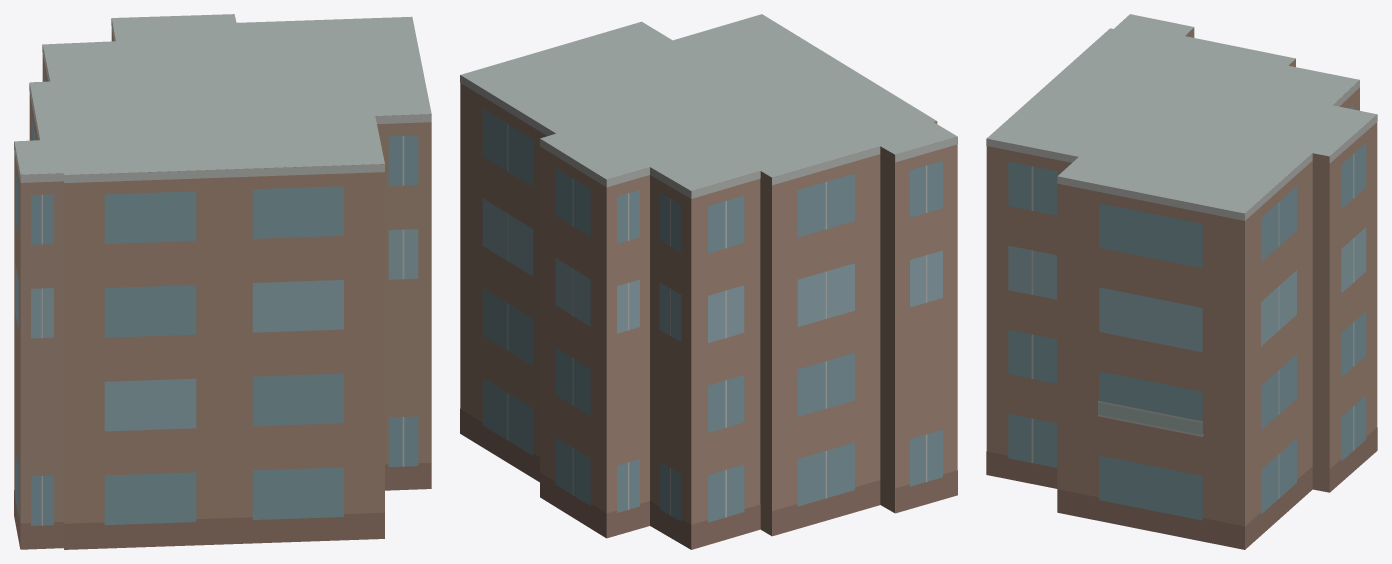
Rendered from survey-upis-32625352.glb.
The picture shows the model from 3 angles, left to right: view 1: azimuth 30°, elevation 25°; view 2: azimuth 150°, elevation 25°; view 3: azimuth 270°, elevation 25°; orthographic projection. The views are drawn at different scales.
Visible parts, largest first — view 1: survey-upis-32625352.tmp; view 2: survey-upis-32625352.tmp; view 3: survey-upis-32625352.tmp.
Part boxes in pixels (box(x1,y1,x2,y2)): survey-upis-32625352.tmp: box(14, 14, 431, 549); survey-upis-32625352.tmp: box(460, 14, 957, 549); survey-upis-32625352.tmp: box(986, 14, 1377, 549).
Bounding box in the file's own units: 14.26 × 11.2 × 11.81.
